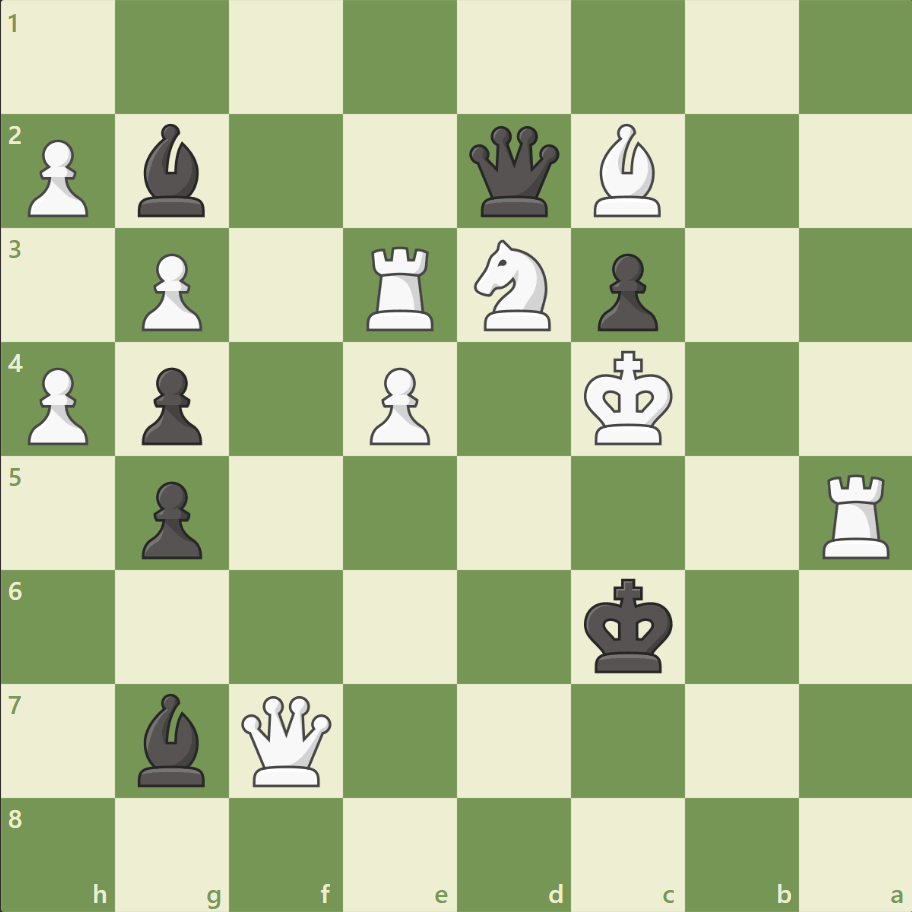B: (585, 120, 669, 222)
K: (579, 344, 679, 452)
N: (465, 234, 562, 337)
P: (20, 359, 95, 450), (133, 246, 208, 337), (20, 132, 95, 223), (361, 359, 435, 450)
Q: (237, 690, 336, 789)
R: (814, 466, 897, 563), (360, 239, 442, 336)
b: (131, 687, 215, 790), (131, 120, 215, 222)
k: (579, 571, 679, 679)
p: (133, 473, 208, 564), (133, 359, 208, 450), (588, 246, 662, 337)
q: (464, 122, 563, 222)
